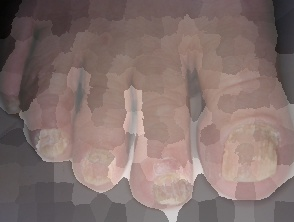Nail_psoriasis: (214, 103, 294, 196), (150, 153, 196, 211), (77, 148, 117, 188), (32, 127, 70, 163), (0, 86, 25, 119)
